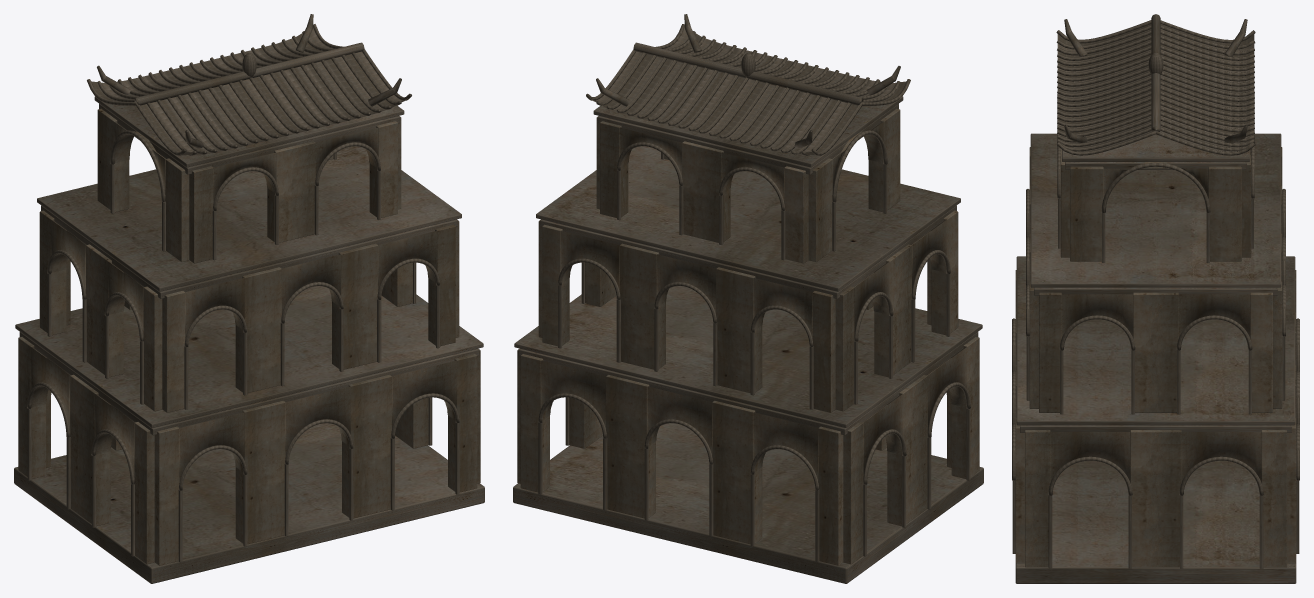
File: thap_rua.glb
The picture shows the model from 3 angles, left to right: view 1: azimuth 30°, elevation 25°; view 2: azimuth 150°, elevation 25°; view 3: azimuth 270°, elevation 25°; orthographic projection.
Parts seen in each view (by area): view 1: thap_rua.001; view 2: thap_rua.001; view 3: thap_rua.001.
Part boxes in pixels (<box>): thap_rua.001: <box>14,14,484,583</box>; thap_rua.001: <box>513,14,983,583</box>; thap_rua.001: <box>1012,14,1299,583</box>.
Bounding box in the file's own units: 6.41 × 7.93 × 4.61.
2 materials, 2 textured.
